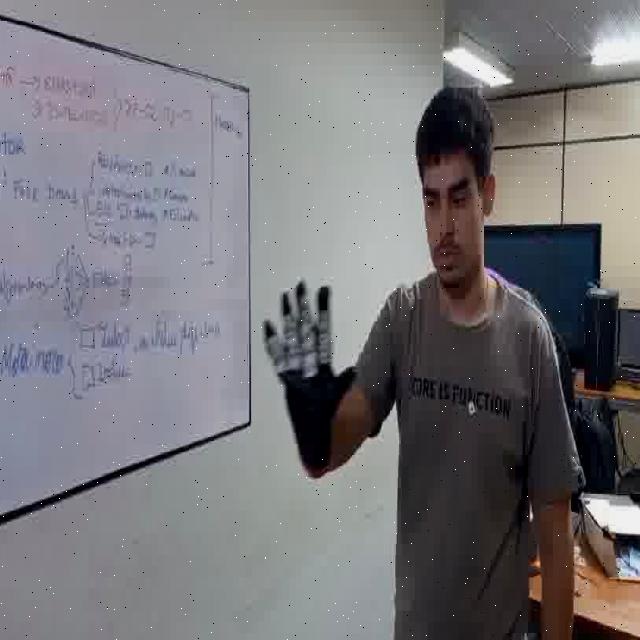Gloves: (261, 274, 360, 476)
